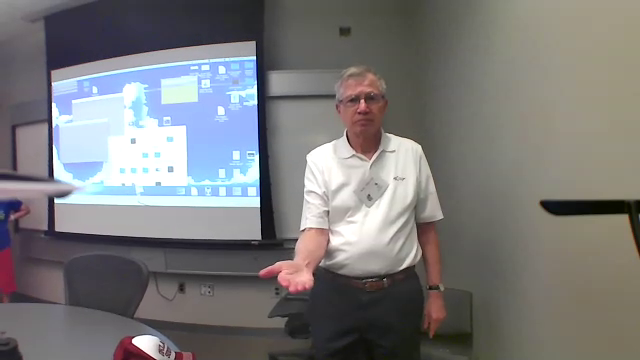land: (254, 251, 328, 297)
